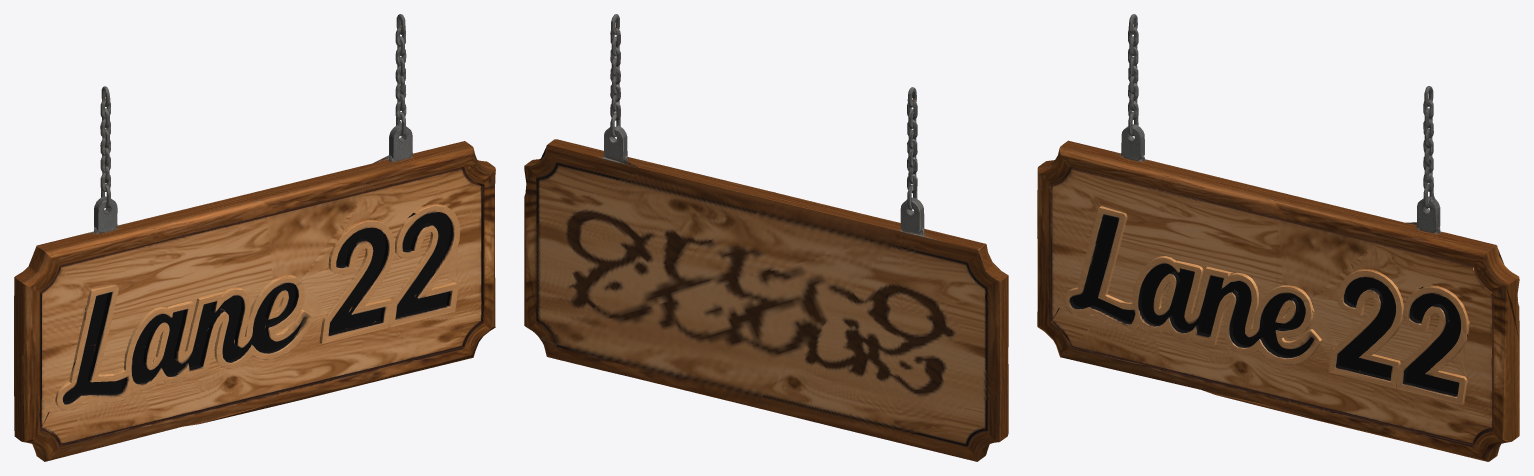
Rendered from lane22sign.glb.
3 views of the same model, side by side, from view 1: azimuth 30°, elevation 25°; view 2: azimuth 150°, elevation 25°; view 3: azimuth 330°, elevation 25° (orthographic).
Parts seen in each view (by area): view 1: output_unwrapped; view 2: output_unwrapped; view 3: output_unwrapped.
Boxes of the visible parts, <box> form: output_unwrapped: <box>14,14,495,461</box>; output_unwrapped: <box>524,14,1008,461</box>; output_unwrapped: <box>1037,14,1519,461</box>.
Bounding box in the file's own units: 1.9 × 1.36 × 0.1032.
1 material, 1 textured.
